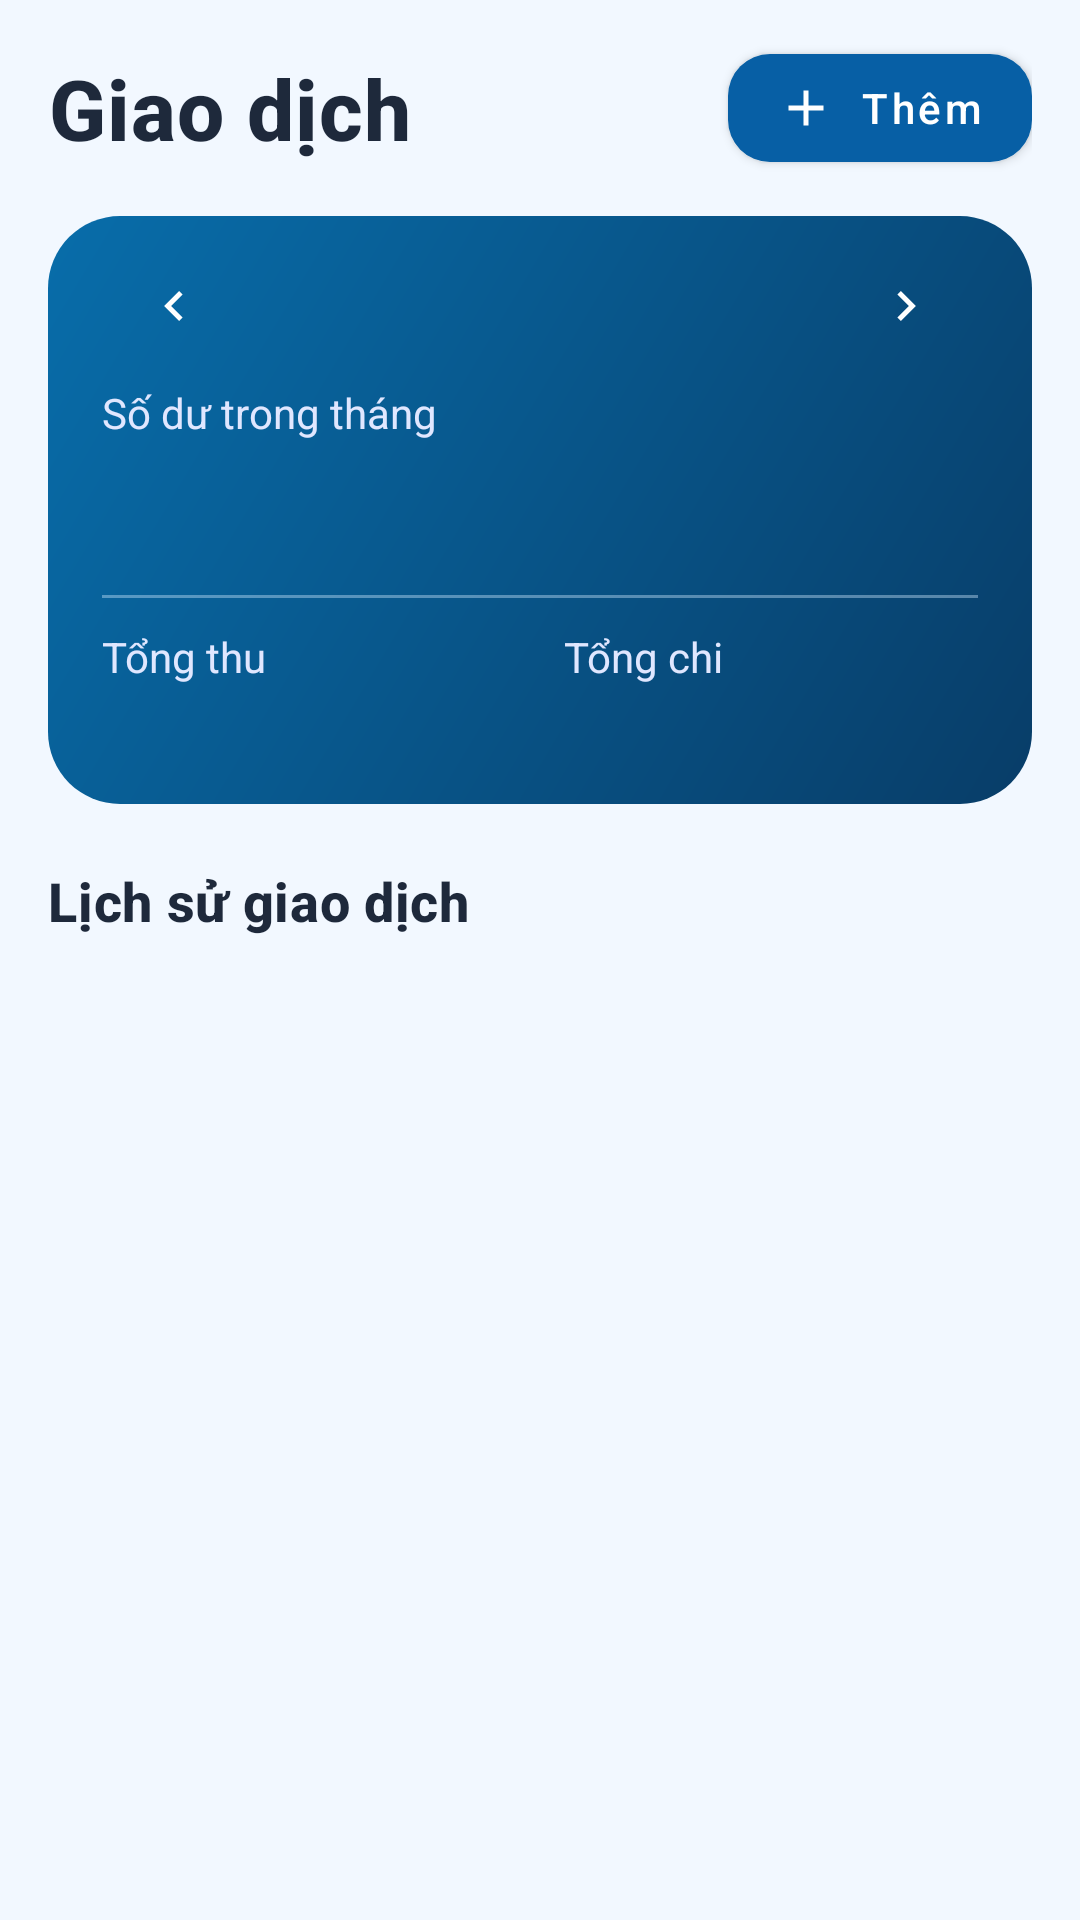

Screen size 1080px×1920px. Icon name, then its center in pixels as [x,y]:
Tháng trước: [173,306]
